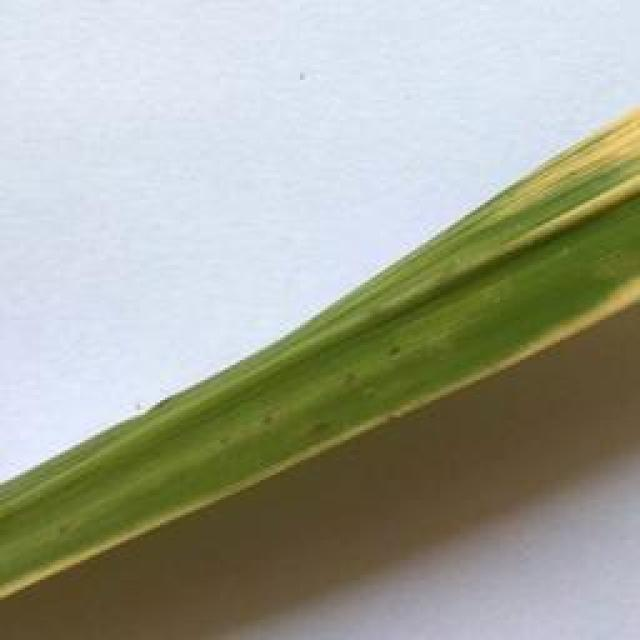Brown_Spot: (207, 422, 240, 460), (297, 417, 340, 446), (246, 404, 279, 432), (381, 334, 406, 362), (54, 514, 78, 542), (339, 368, 365, 386)
